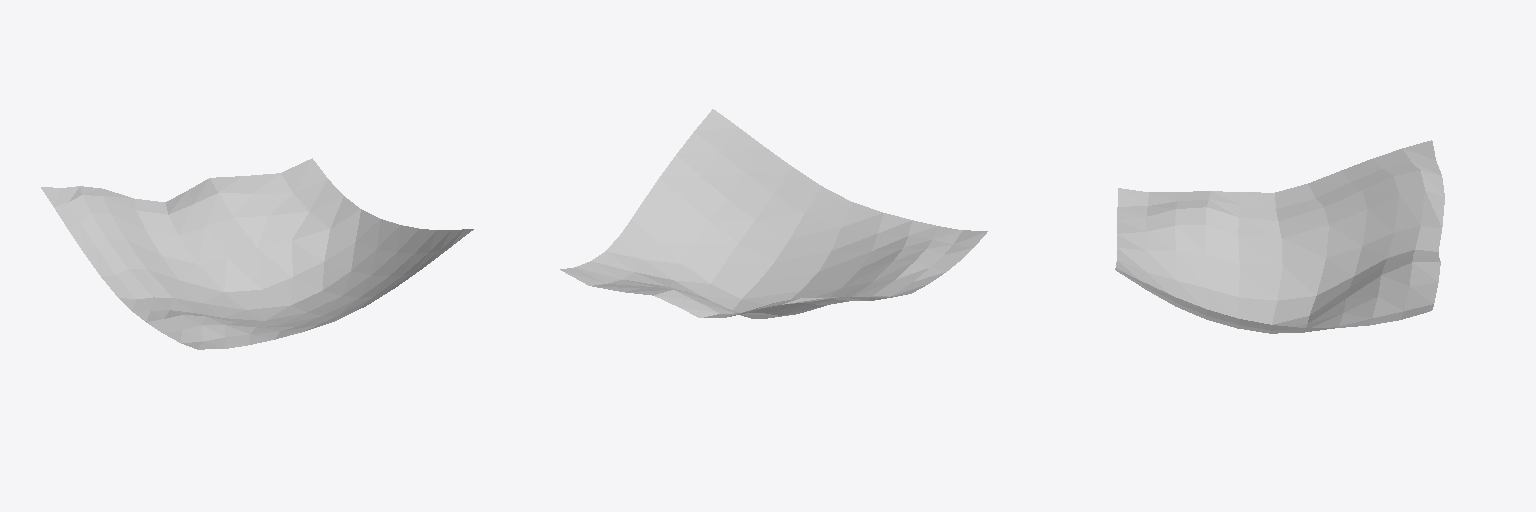
The model's file is plana3.obj.
3 views of the same model, side by side, from view 1: azimuth 30°, elevation 25°; view 2: azimuth 150°, elevation 25°; view 3: azimuth 270°, elevation 25° (orthographic).
Visible parts, largest first — view 1: Plane_Plane.001; view 2: Plane_Plane.001; view 3: Plane_Plane.001.
Part boxes in pixels (x1,y1,x2,y2): Plane_Plane.001: (41, 158, 473, 349); Plane_Plane.001: (560, 109, 987, 318); Plane_Plane.001: (1115, 140, 1444, 333).
Size of the model in its own units: 8.28 by 2.95 by 8.19.